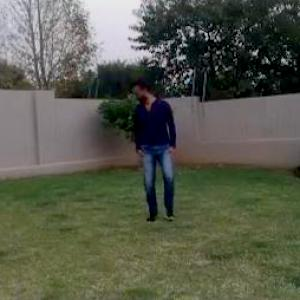follow: (135, 71, 178, 218)
